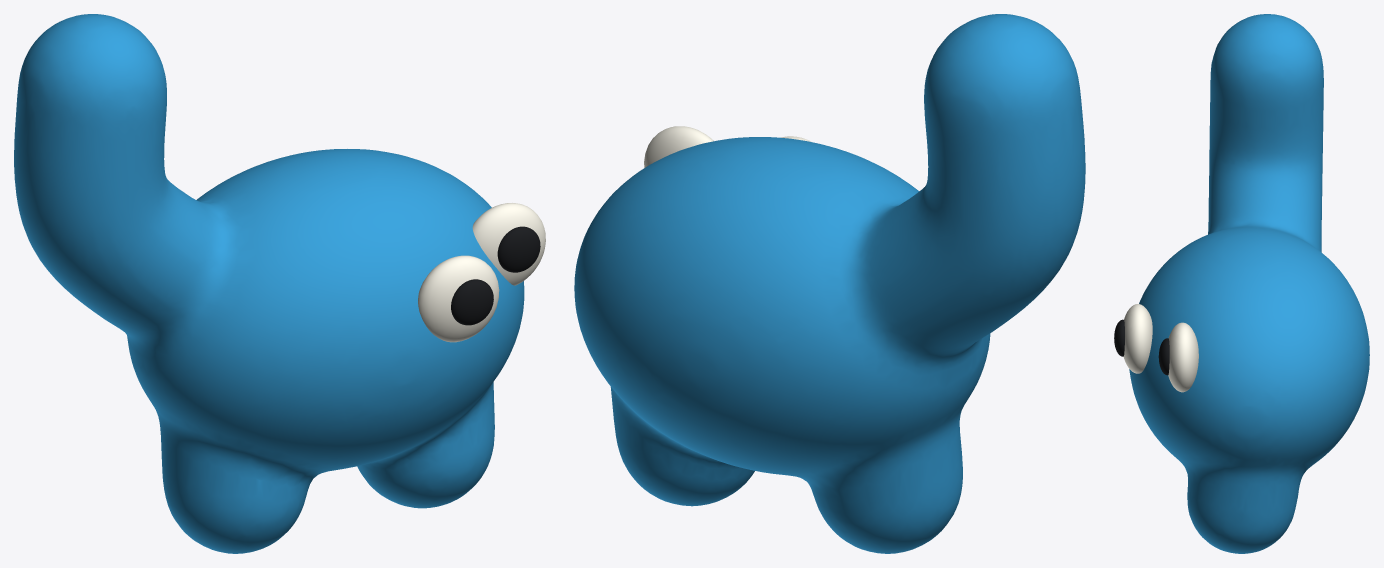
Rendered from img-9953.glb.
The picture shows the model from 3 angles, left to right: view 1: azimuth 30°, elevation 25°; view 2: azimuth 150°, elevation 25°; view 3: azimuth 270°, elevation 25°; orthographic projection. The views are drawn at different scales.
Parts seen in each view (by area): view 1: IMG_9953__Blue rounded animal.009, IMG_9953__EyeWhite_0.013, IMG_9953__EyeWhite_1.013, IMG_9953__Pupil_1.013, IMG_9953__Pupil_0.013; view 2: IMG_9953__Blue rounded animal.009, IMG_9953__EyeWhite_1.013; view 3: IMG_9953__Blue rounded animal.009, IMG_9953__EyeWhite_1.013, IMG_9953__EyeWhite_0.013, IMG_9953__Pupil_1.013, IMG_9953__Pupil_0.013.
Part boxes in pixels (x1=…): IMG_9953__Blue rounded animal.009: x1=14, y1=14, x2=524, y2=553; IMG_9953__EyeWhite_0.013: x1=418, y1=255, x2=499, y2=342; IMG_9953__EyeWhite_1.013: x1=472, y1=203, x2=545, y2=285; IMG_9953__Pupil_1.013: x1=497, y1=226, x2=540, y2=272; IMG_9953__Pupil_0.013: x1=451, y1=279, x2=493, y2=325; IMG_9953__Blue rounded animal.009: x1=574, y1=14, x2=1085, y2=553; IMG_9953__EyeWhite_1.013: x1=644, y1=126, x2=713, y2=167; IMG_9953__Blue rounded animal.009: x1=1129, y1=14, x2=1369, y2=553; IMG_9953__EyeWhite_1.013: x1=1168, y1=322, x2=1198, y2=392; IMG_9953__EyeWhite_0.013: x1=1123, y1=304, x2=1152, y2=373; IMG_9953__Pupil_1.013: x1=1158, y1=338, x2=1169, y2=375; IMG_9953__Pupil_0.013: x1=1114, y1=319, x2=1124, y2=356.
Bounding box in the file's own units: 0.9074 × 1 × 0.5607.
